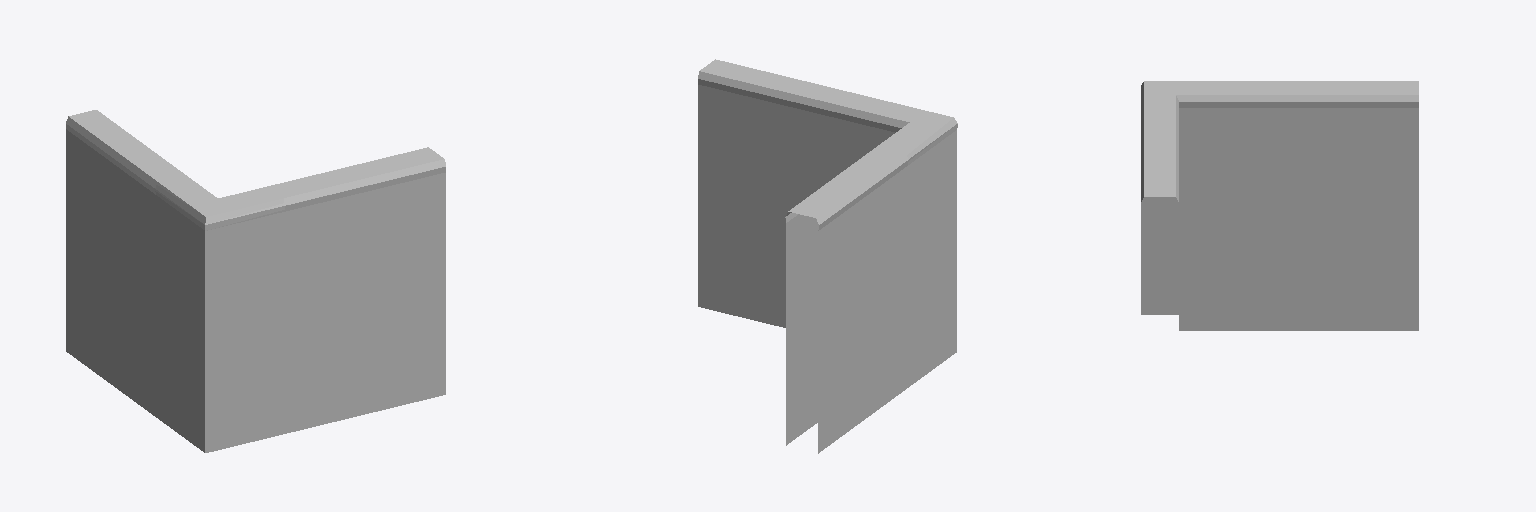
File: cemetery_wall_04_corner.obj
The picture shows the model from 3 angles: view 1: azimuth 30°, elevation 25°; view 2: azimuth 150°, elevation 25°; view 3: azimuth 270°, elevation 25°; orthographic projection.
Parts seen in each view (by area): view 1: cemetery_wall_04_corner, cemetery_wall_04_corner.001, cemetery_wall_04_corner.002; view 2: cemetery_wall_04_corner, cemetery_wall_04_corner.002, cemetery_wall_04_corner.001; view 3: cemetery_wall_04_corner, cemetery_wall_04_corner.002, cemetery_wall_04_corner.001.
Boxes of the visible parts, x1=… form: cemetery_wall_04_corner: x1=75, y1=117, x2=429, y2=452; cemetery_wall_04_corner.001: x1=270, y1=147, x2=445, y2=398; cemetery_wall_04_corner.002: x1=66, y1=110, x2=183, y2=415; cemetery_wall_04_corner: x1=714, y1=63, x2=957, y2=445; cemetery_wall_04_corner.002: x1=785, y1=151, x2=907, y2=453; cemetery_wall_04_corner.001: x1=698, y1=59, x2=859, y2=327; cemetery_wall_04_corner: x1=1141, y1=81, x2=1400, y2=330; cemetery_wall_04_corner.002: x1=1240, y1=81, x2=1418, y2=330; cemetery_wall_04_corner.001: x1=1141, y1=119, x2=1178, y2=201.
Size of the model in its own units: 0.537 by 0.4993 by 0.5372.